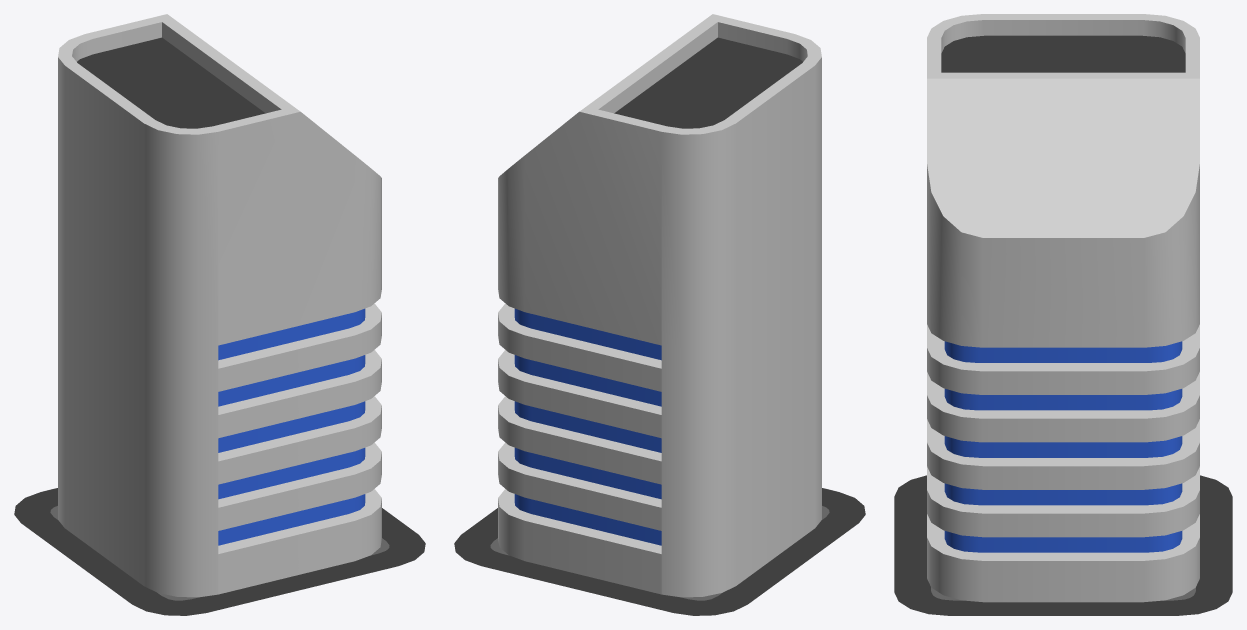
Rendered from building3.glb.
3 renders of one model, left to right at view 1: azimuth 30°, elevation 25°; view 2: azimuth 150°, elevation 25°; view 3: azimuth 270°, elevation 25°, orthographic. The views are drawn at different scales.
Parts seen in each view (by area): view 1: Cube.023, Plane.006; view 2: Cube.023, Plane.006; view 3: Cube.023, Plane.006.
Boxes of the visible parts, x1,y1,x2,y2 form: Cube.023: (58,14,381,597); Plane.006: (14,488,425,615); Cube.023: (498,14,821,597); Plane.006: (454,488,865,615); Cube.023: (927,14,1199,602); Plane.006: (894,475,1232,615).
Bounding box in the file's own units: 2.48 × 3.83 × 2.48.
